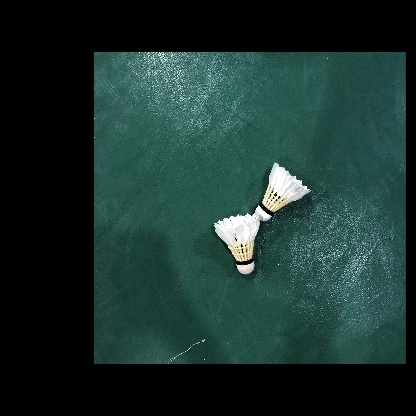ball_single: (255, 162, 311, 221), (214, 213, 260, 275)
